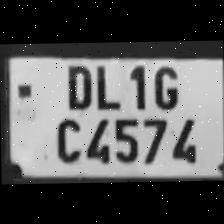1: (120, 59, 148, 108)
4: (164, 110, 198, 164), (82, 111, 110, 164)
5: (108, 111, 140, 164)
7: (138, 113, 167, 166)
C: (50, 111, 84, 164)
D: (58, 60, 92, 110)
G: (146, 58, 180, 110)
L: (90, 56, 122, 110)
